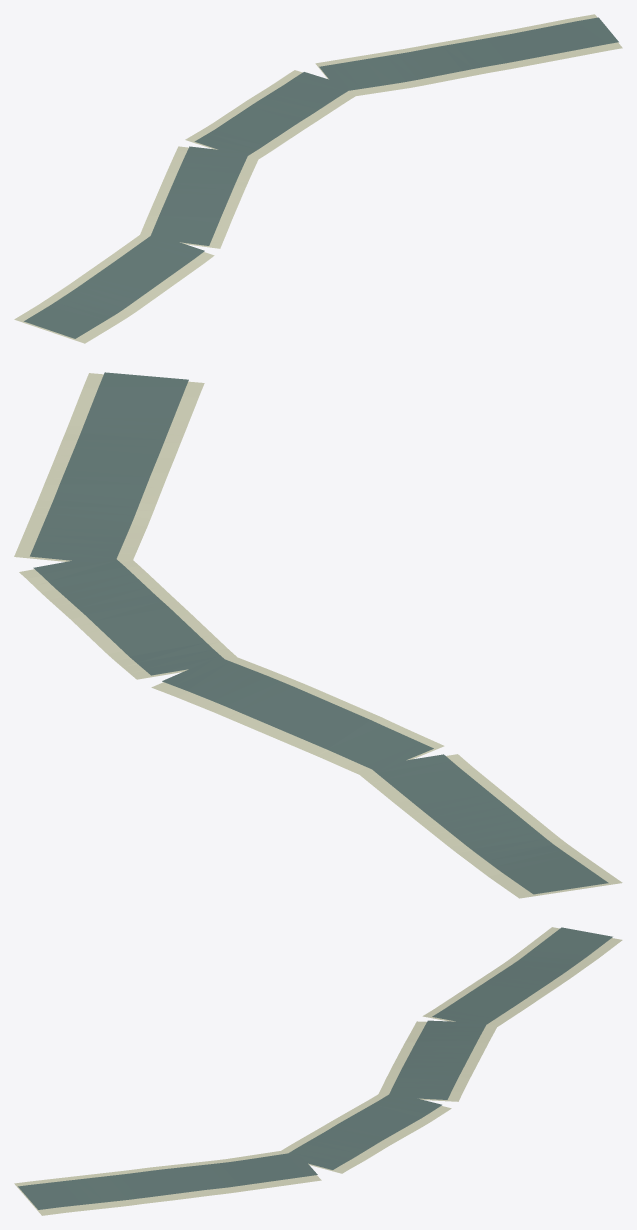
File: Road_06.glb
The picture shows the model from 3 angles, top to bottom: view 1: azimuth 90°, elevation 25°; view 2: azimuth 150°, elevation 25°; view 3: azimuth 270°, elevation 25°; orthographic projection. The views are drawn at different scales.
Visible parts, largest first — view 1: Road_06; view 2: Road_06; view 3: Road_06.
Part boxes in pixels (<box>): Road_06: <box>14,14,622,343</box>; Road_06: <box>14,372,622,898</box>; Road_06: <box>14,927,622,1215</box>.
Size of the model in its own units: 42.11 by 1.58 by 35.06.
